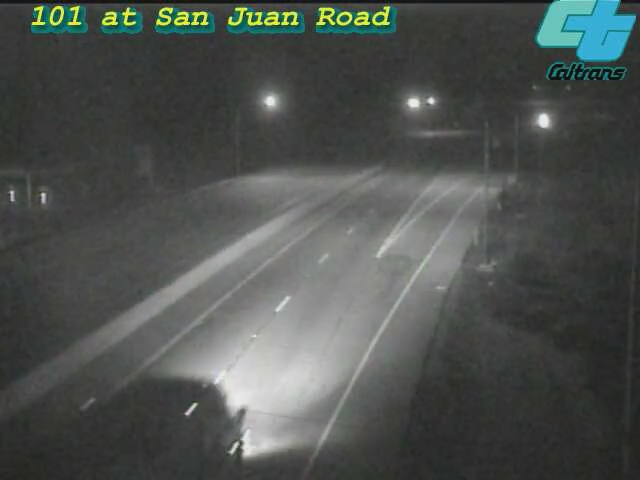vehicle: (100, 381, 210, 480), (519, 96, 569, 146)
